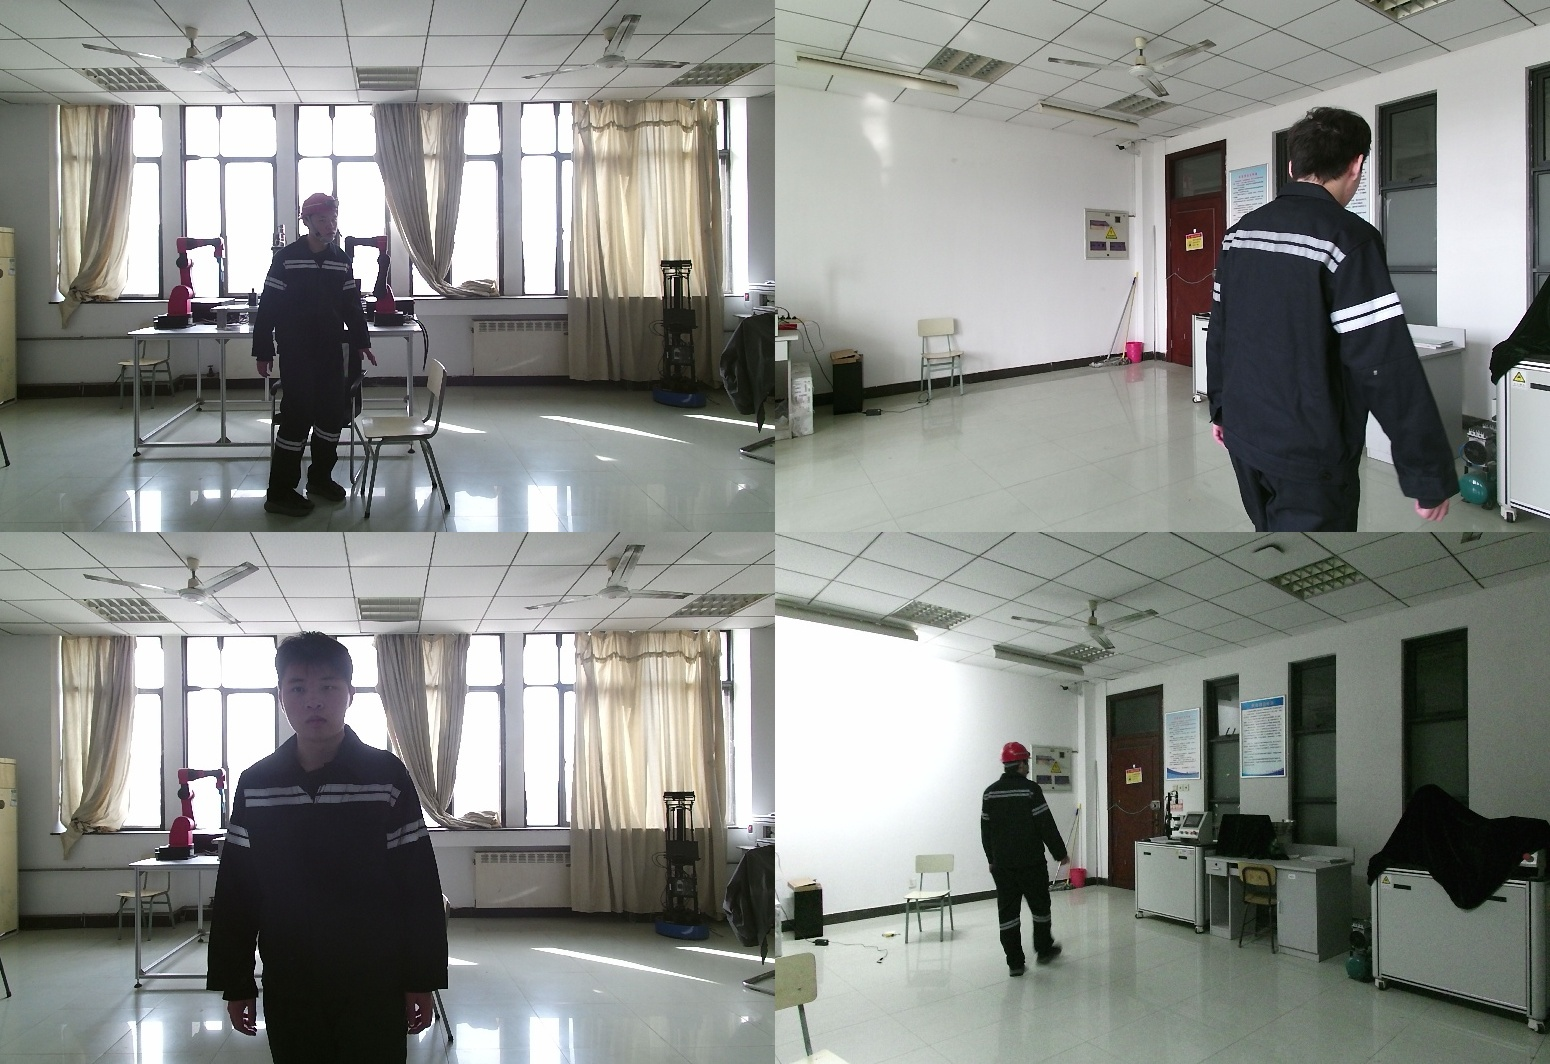person: (1215, 106, 1489, 532), (220, 632, 459, 1064), (256, 191, 388, 511), (972, 743, 1072, 975)
